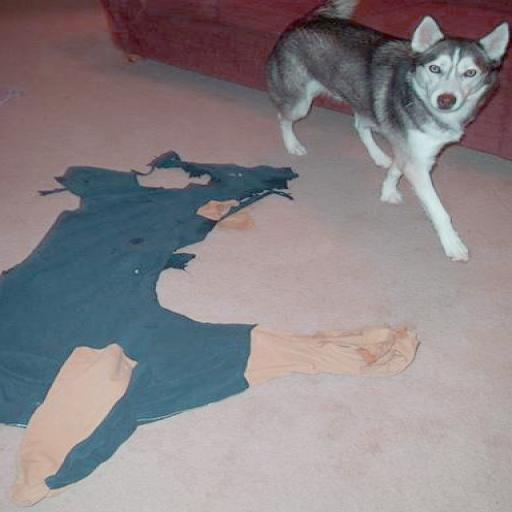dog_face: (405, 20, 506, 111)
